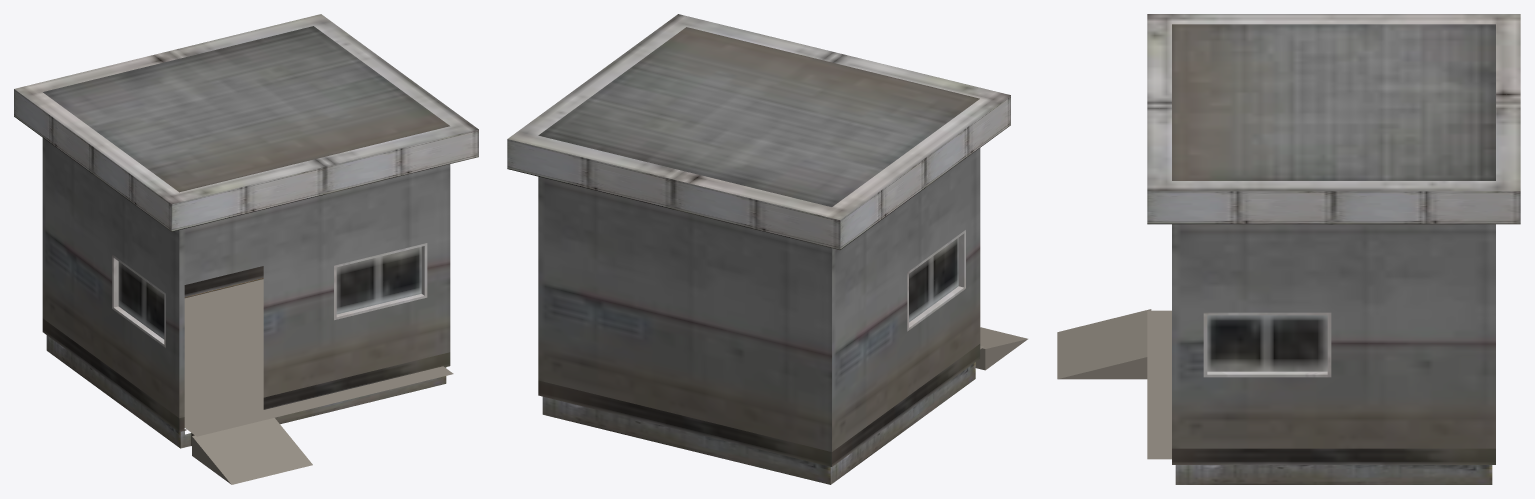
Rendered from ind-generic-2.access-v2.lod1.glb.
The picture shows the model from 3 angles, left to right: view 1: azimuth 30°, elevation 25°; view 2: azimuth 150°, elevation 25°; view 3: azimuth 270°, elevation 25°; orthographic projection. The views are drawn at different scales.
Visible parts, largest first — view 1: Industrial_GenericBuilding_2_Industrial_Trim_FLR_1_Dif_0, Walkable floors and stairs; view 2: Industrial_GenericBuilding_2_Industrial_Trim_FLR_1_Dif_0, Walkable floors and stairs; view 3: Industrial_GenericBuilding_2_Industrial_Trim_FLR_1_Dif_0, Walkable floors and stairs.
Boxes of the visible parts, x1,y1,x2,y2 form: Industrial_GenericBuilding_2_Industrial_Trim_FLR_1_Dif_0: (14, 14, 478, 448); Walkable floors and stairs: (184, 279, 453, 484); Industrial_GenericBuilding_2_Industrial_Trim_FLR_1_Dif_0: (507, 14, 1010, 484); Walkable floors and stairs: (975, 327, 1027, 370); Industrial_GenericBuilding_2_Industrial_Trim_FLR_1_Dif_0: (1147, 14, 1520, 484); Walkable floors and stairs: (1057, 309, 1171, 459).
Bounding box in the file's own units: 4.9 × 3.93 × 5.41.
2 materials, 1 textured.
